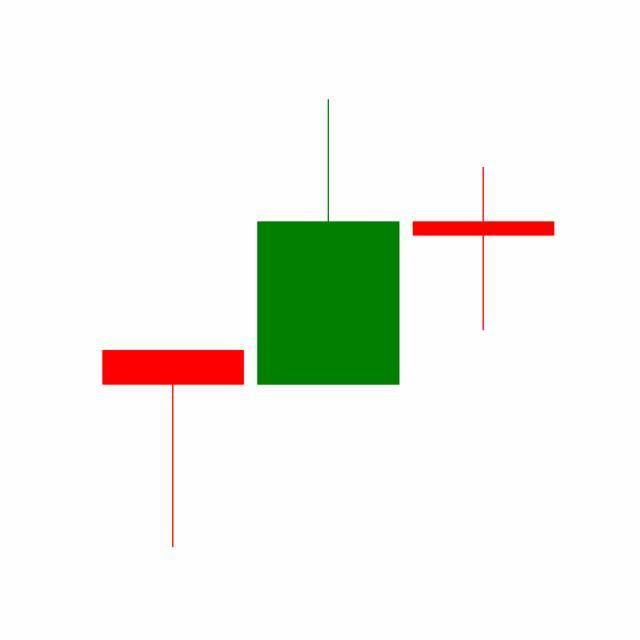Spinning Top: (406, 166, 562, 333)
